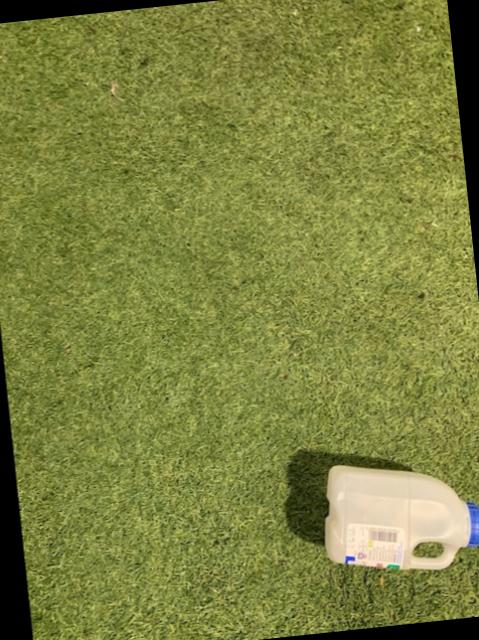plastic: (323, 468, 479, 571)
